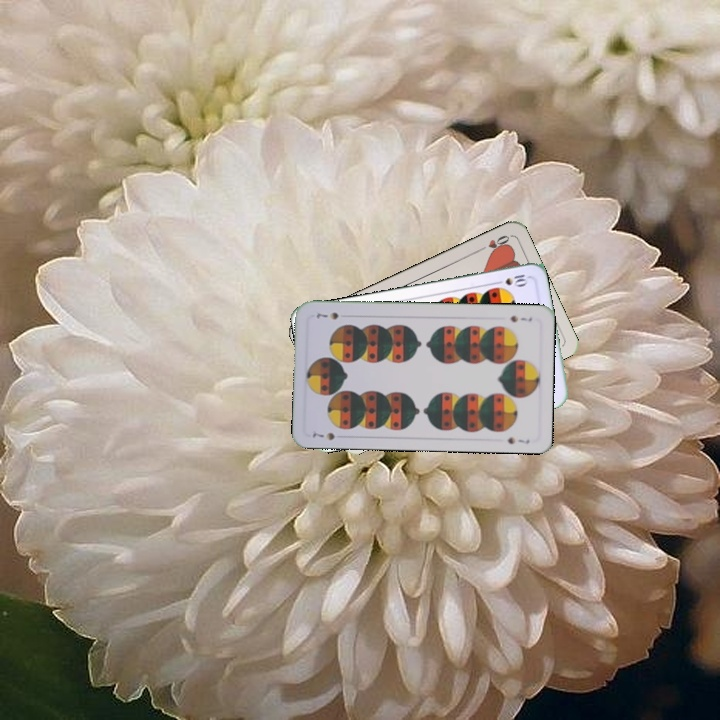HO: (474, 231, 512, 254)
S10: (491, 270, 531, 288)
S7: (308, 427, 337, 443), (506, 311, 534, 325)
